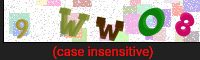8: (173, 9, 194, 39)
9: (11, 17, 35, 40)
O: (134, 3, 166, 37)
W: (45, 1, 93, 40), (94, 11, 125, 42)
